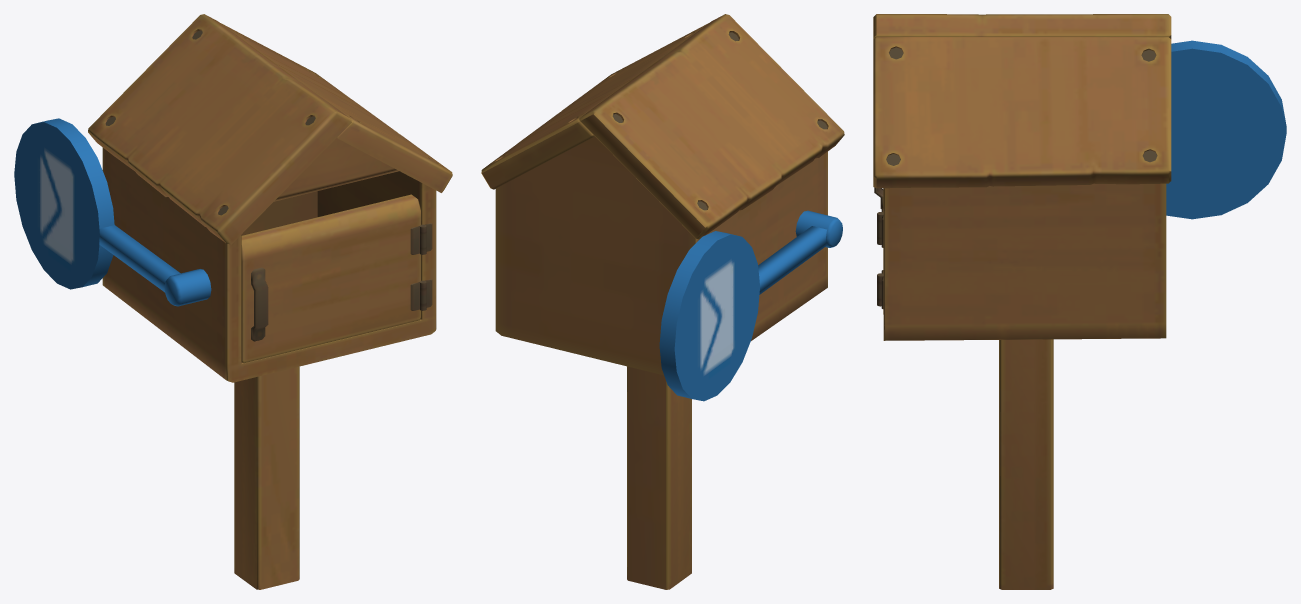
Rendered from FtrPostWood.glb.
3 views of the same model, side by side, from view 1: azimuth 30°, elevation 25°; view 2: azimuth 150°, elevation 25°; view 3: azimuth 270°, elevation 25° (orthographic). The views are drawn at different scales.
Visible parts, largest first — view 1: Body01_low__mBody, Flag01_low__mLight; view 2: Body01_low__mBody, Flag01_low__mLight; view 3: Body01_low__mBody, Flag01_low__mLight.
Boxes of the visible parts, x1,y1,x2,y2 form: Body01_low__mBody: (88,14,452,589); Flag01_low__mLight: (14,118,211,306); Body01_low__mBody: (481,14,844,589); Flag01_low__mLight: (659,210,842,401); Body01_low__mBody: (873,14,1171,589); Flag01_low__mLight: (1166,40,1286,219).
Size of the model in its own units: 5.15 by 9.91 by 6.58.
Materials: 2 (2 with a texture image).
